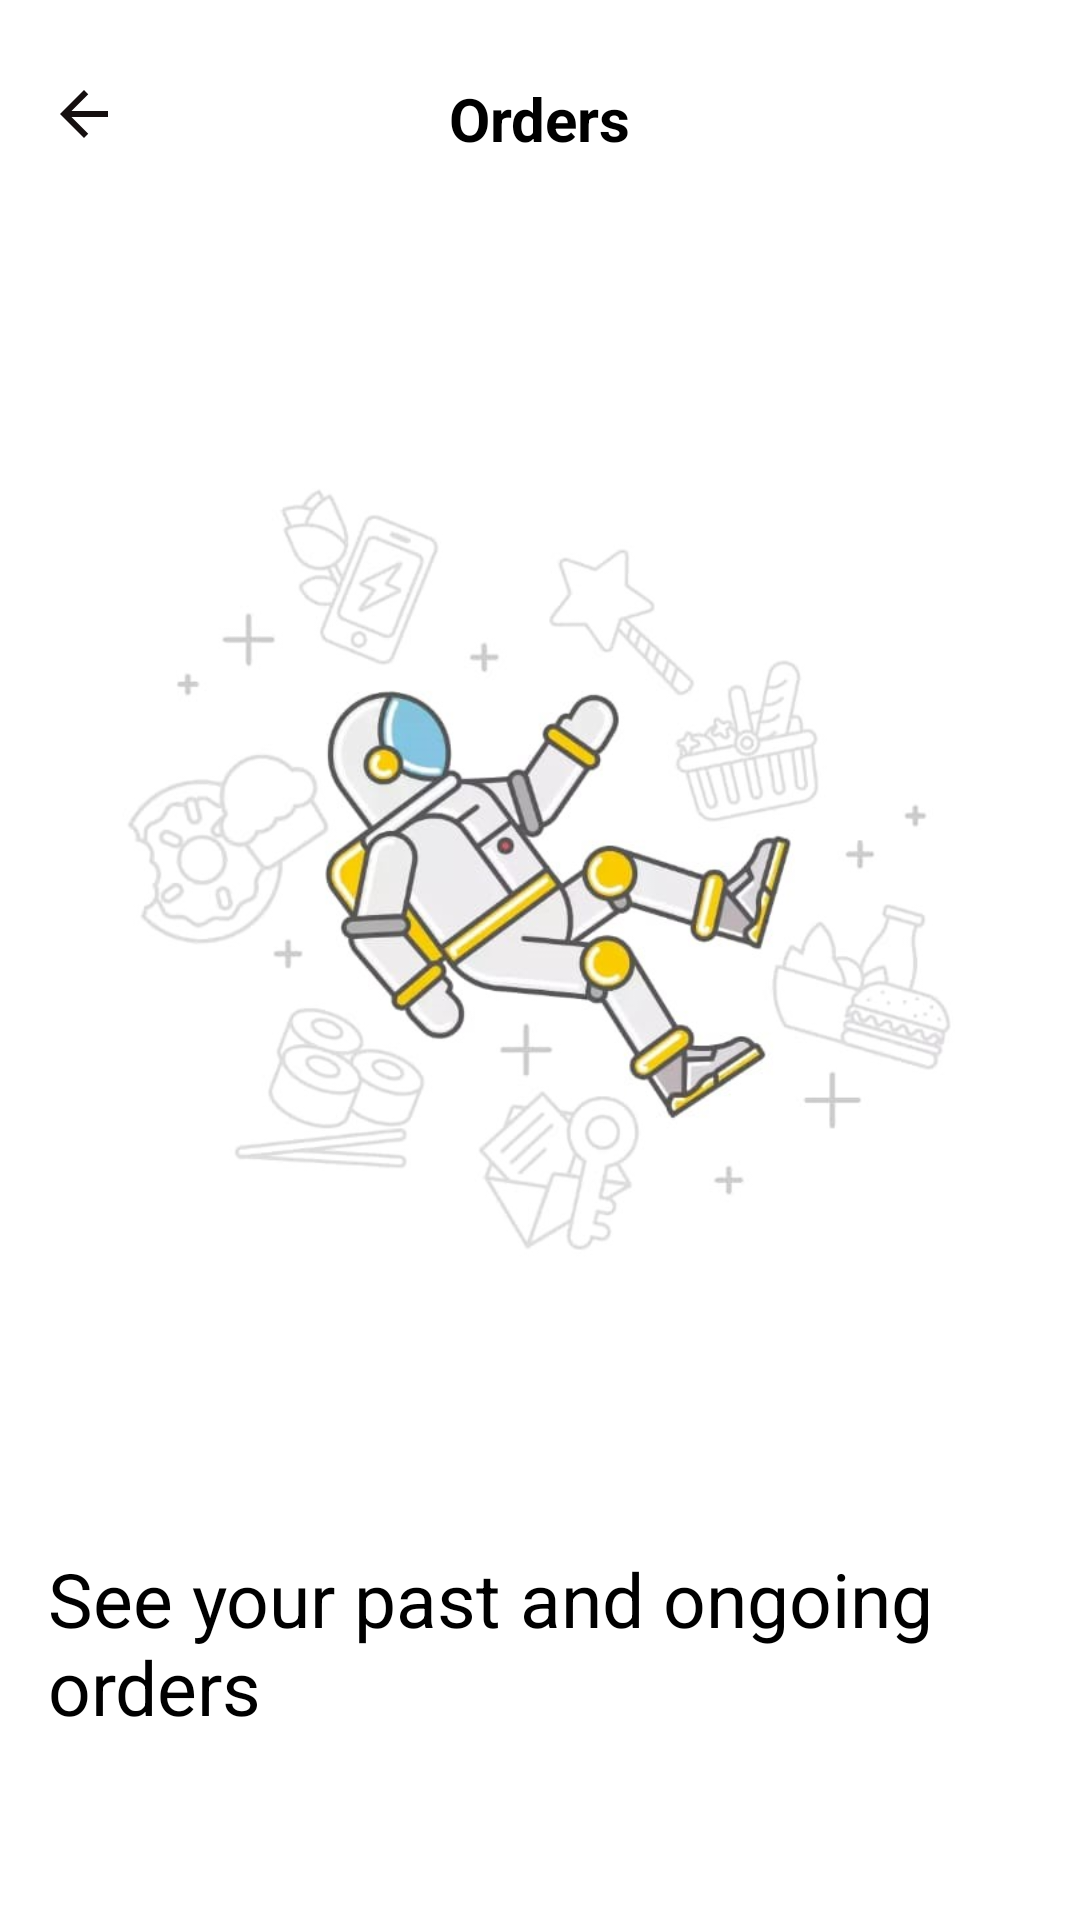

Named icons in this screenshot (1080×1920) and their bounding boxes, (x1, y1, x2, y2):
Back: (60, 90, 108, 138)
